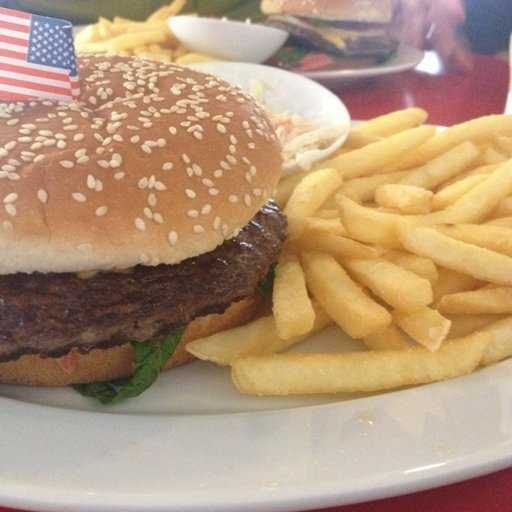hamburger: (1, 56, 270, 384)
